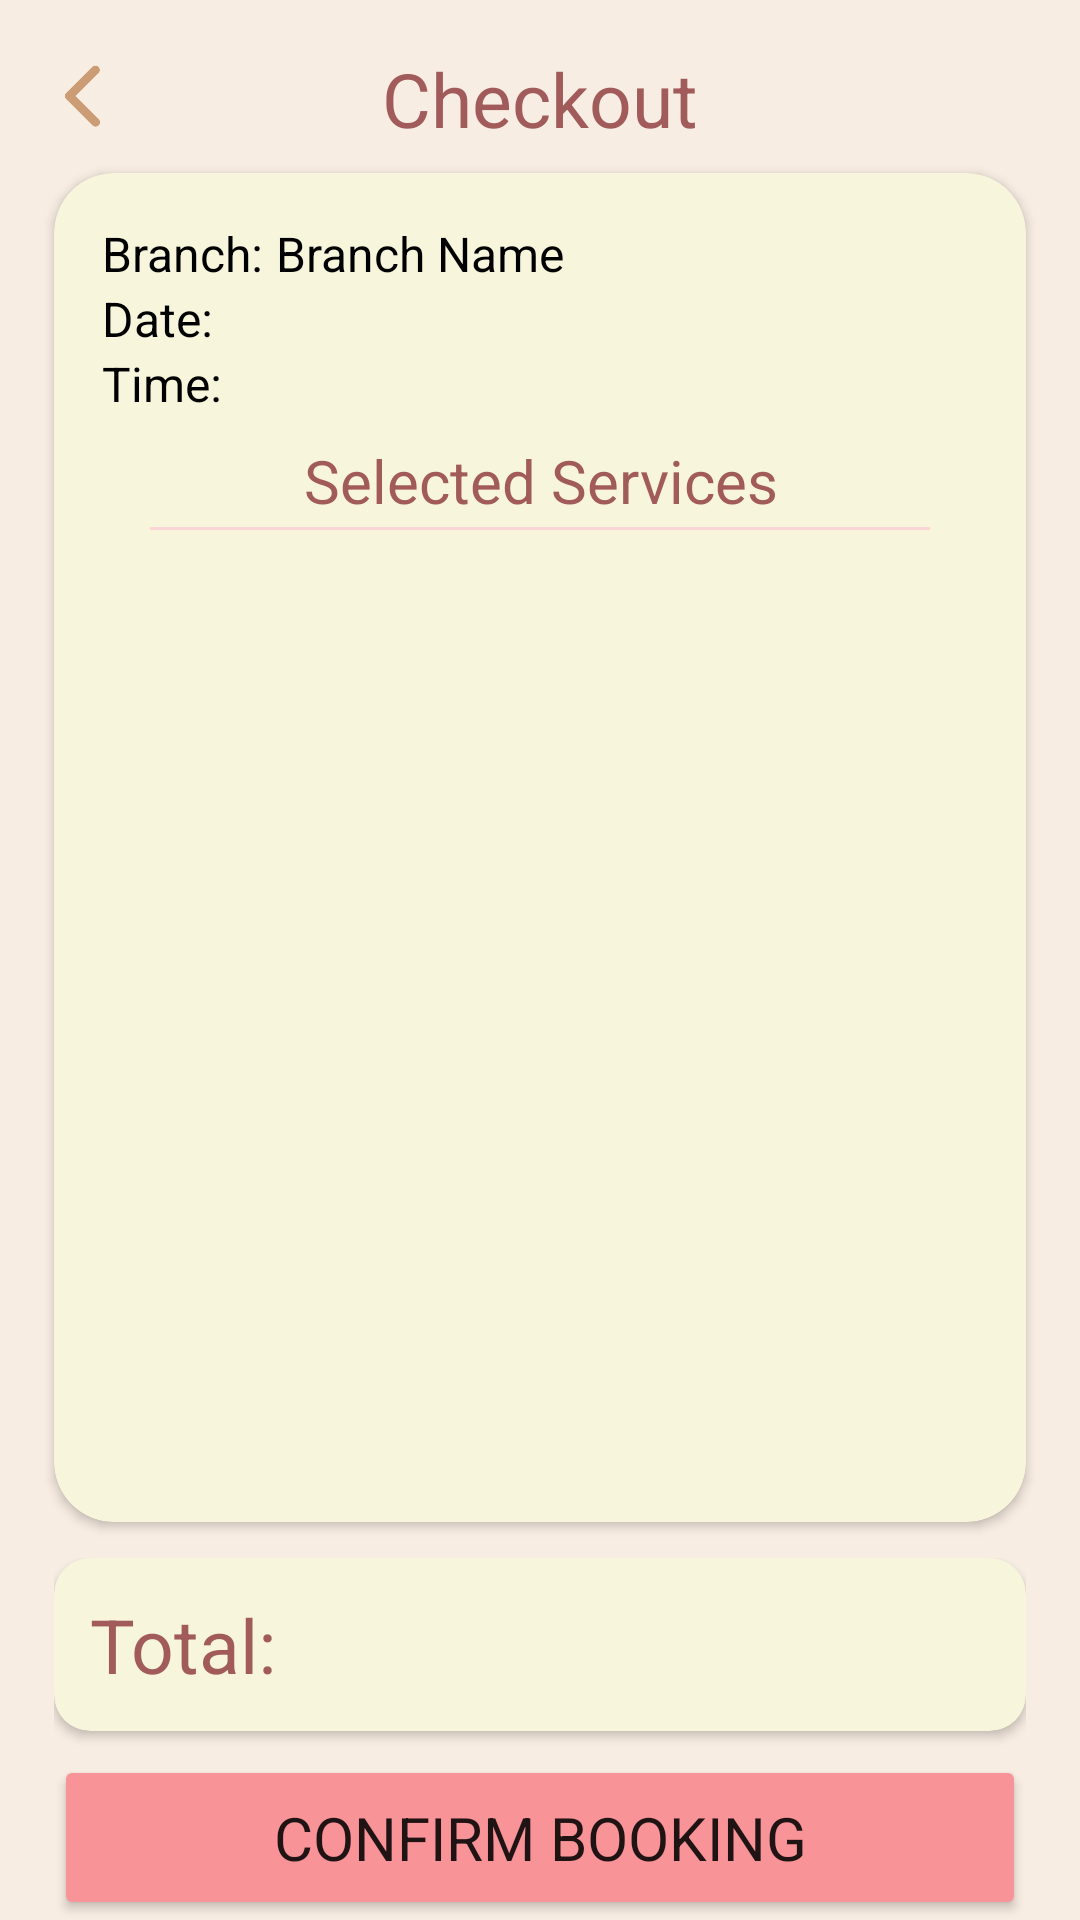

Icons on this 1080px×1920px Android screen, each with its box as box=[x1, y1, x2, y2]:
back: box=[65, 66, 100, 127]
